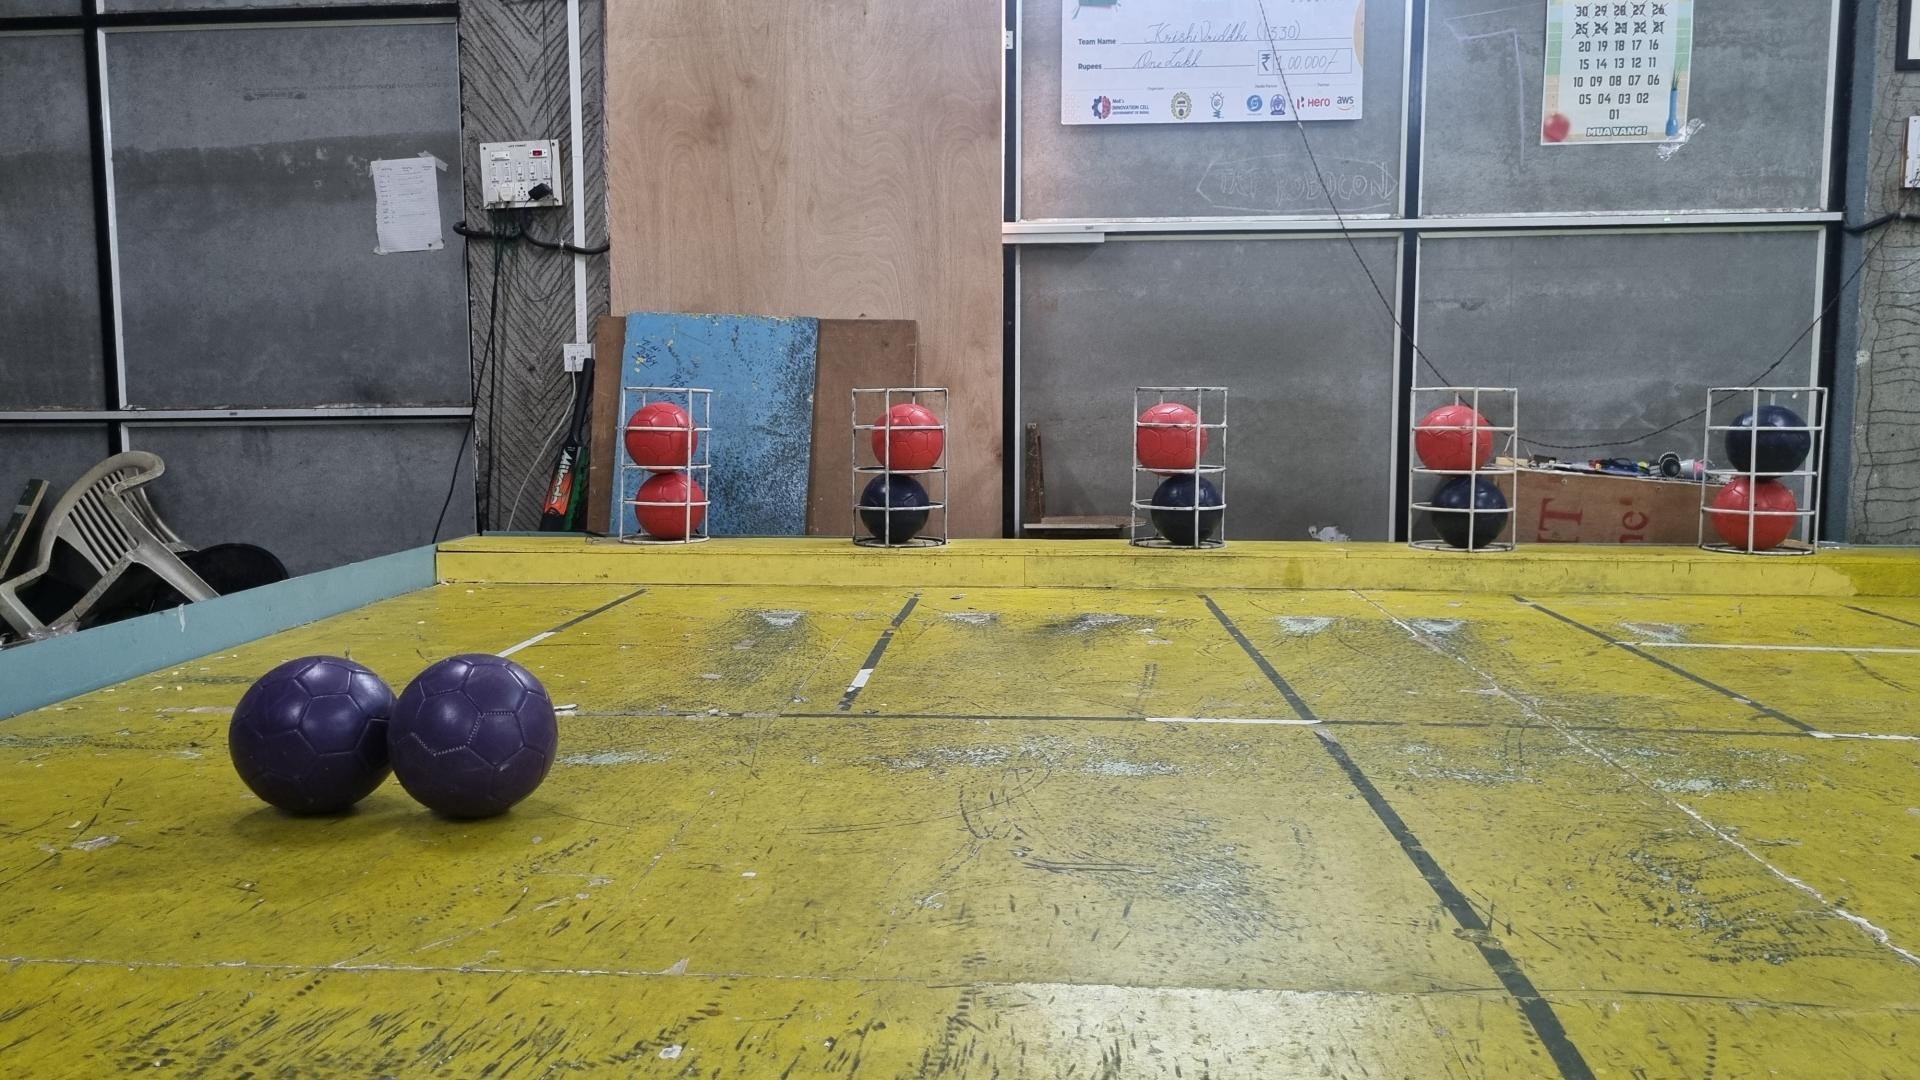dhoka: (1725, 405, 1812, 472), (1432, 476, 1507, 551), (1151, 476, 1222, 547), (858, 476, 930, 543)
laale: (1710, 476, 1796, 551), (1414, 405, 1493, 472), (1137, 401, 1208, 472), (870, 405, 945, 472), (634, 472, 705, 539), (626, 401, 698, 468)
